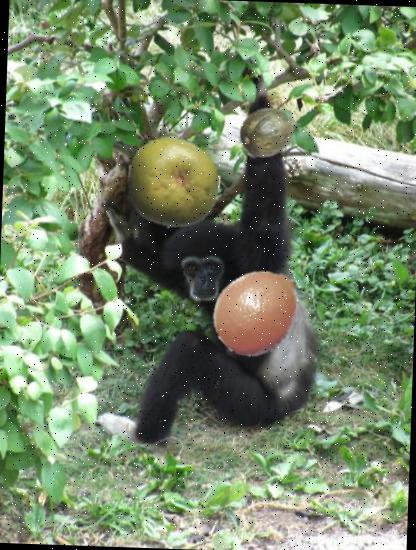Melon: (238, 104, 295, 161)
Pomelo: (127, 136, 222, 230)
Tangelo: (210, 264, 307, 360)
